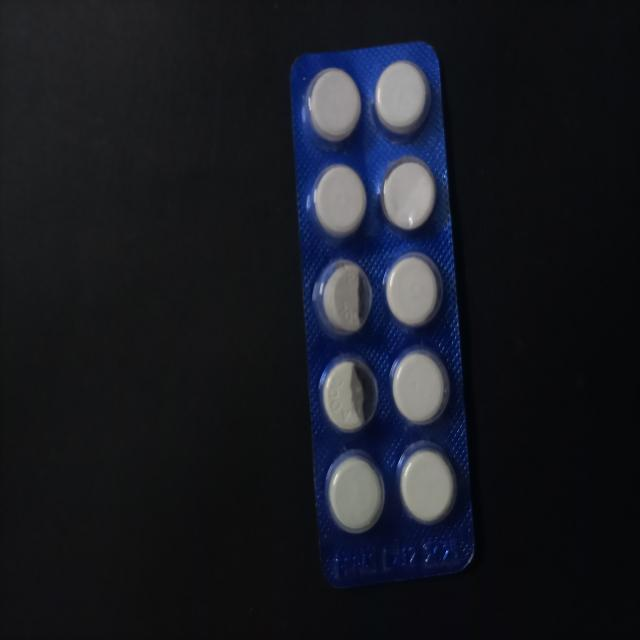defect: (315, 350, 381, 438), (313, 255, 376, 339)
